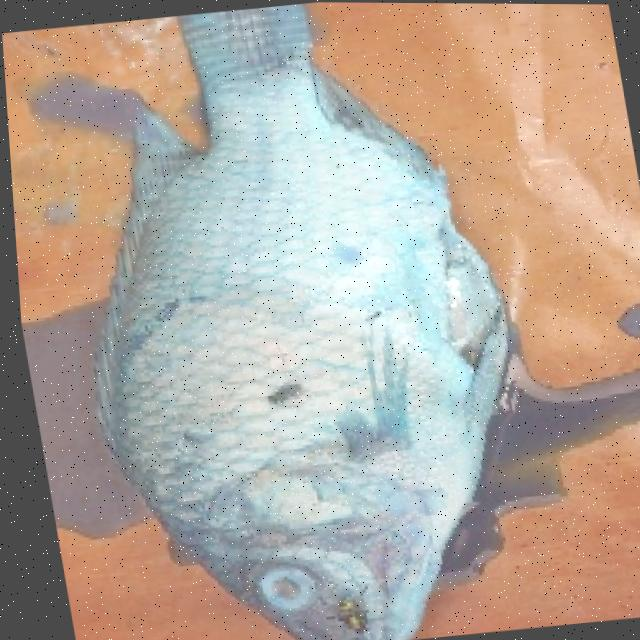Non-Fresh: (36, 75, 543, 640), (228, 540, 349, 638)
